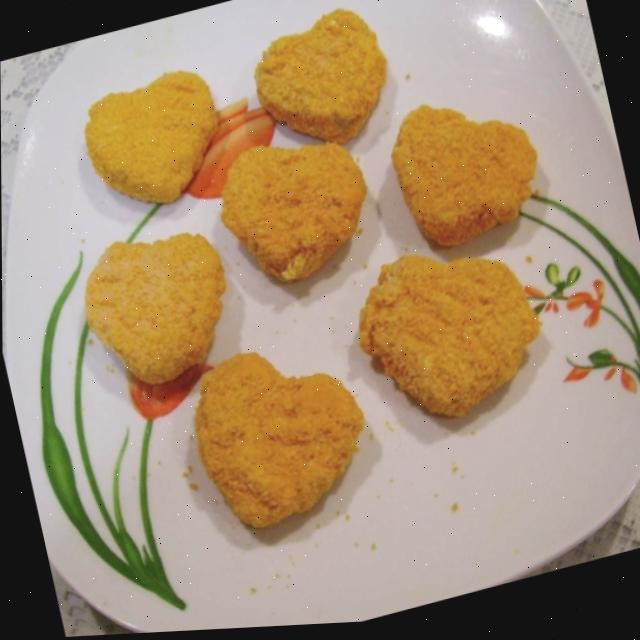鸡肉料理 含炸鸡: (9, 0, 616, 582)
